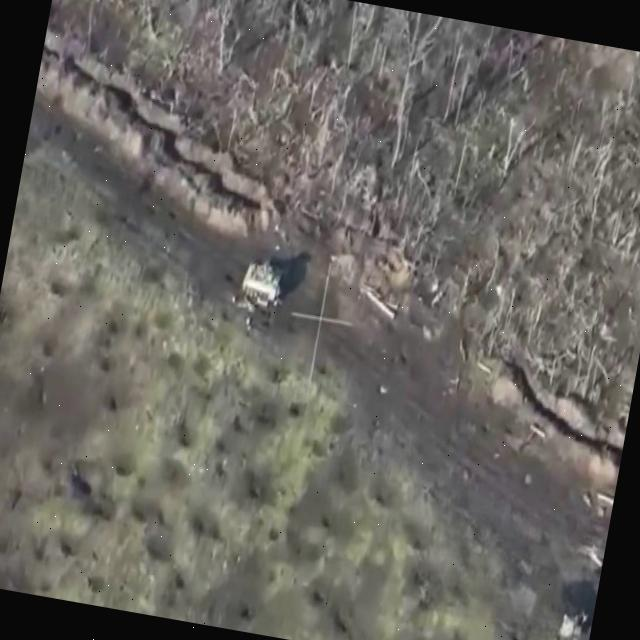AIFV: (238, 258, 287, 314)
